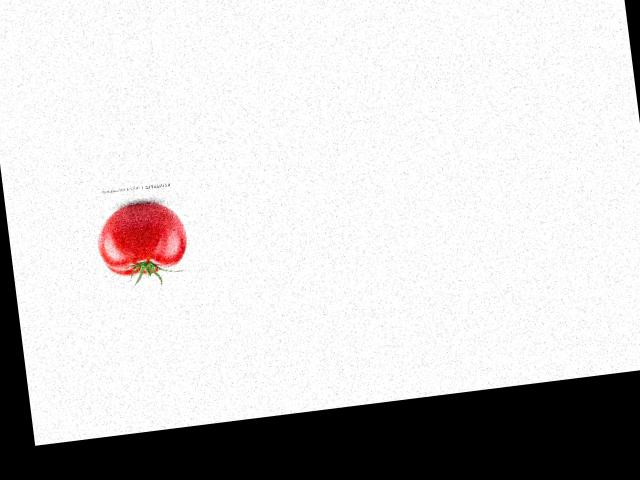tomato: (93, 198, 190, 278)
